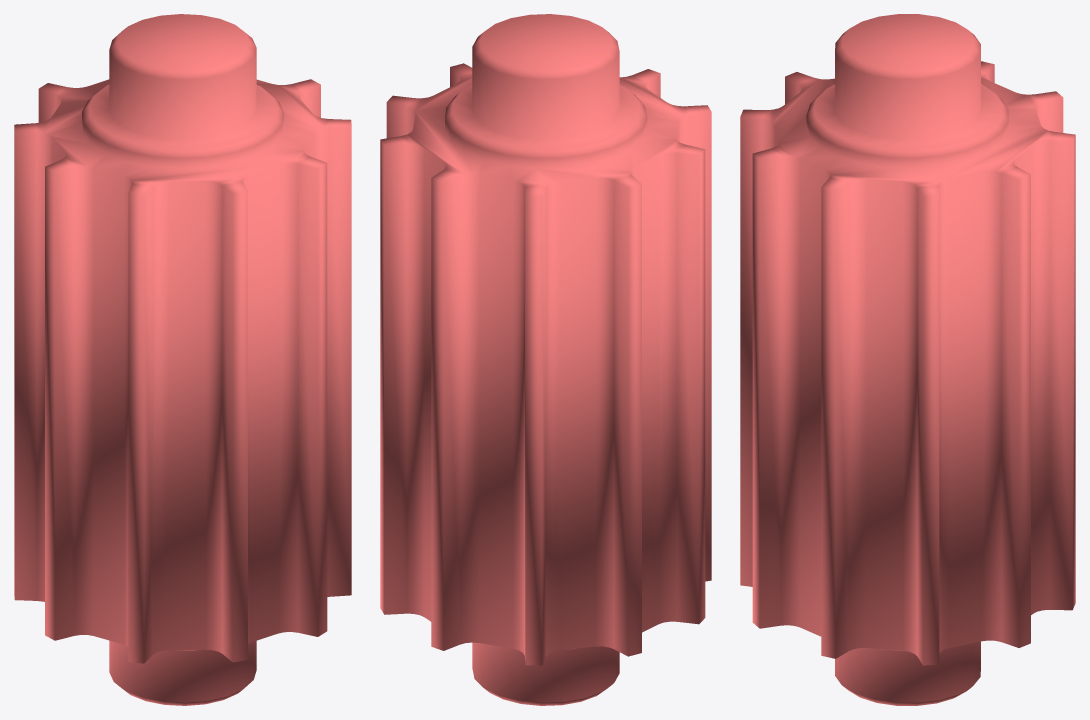
Rendered from solo12_hip_fe_hr_18.obj.
3 renders of one model, left to right at view 1: azimuth 30°, elevation 25°; view 2: azimuth 150°, elevation 25°; view 3: azimuth 270°, elevation 25°, orthographic.
Size of the model in its own units: 0.0091 by 0.019 by 0.00907.
